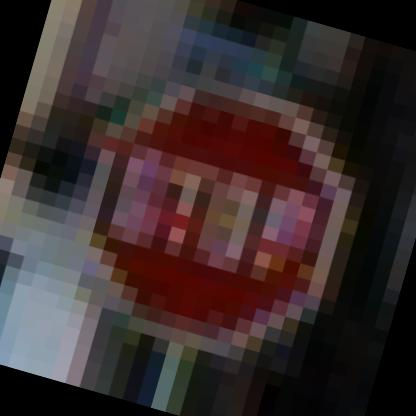stop: (35, 60, 386, 386)
